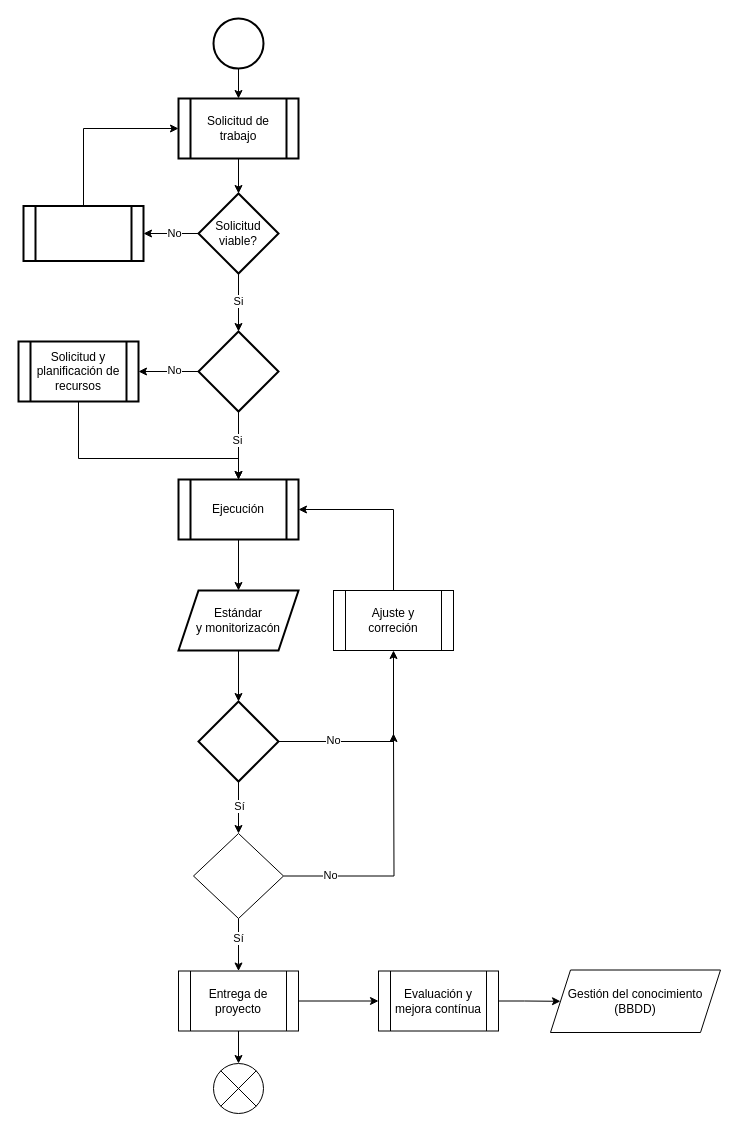
Image size: 738x1131. Some labels were removed from this diagram. Each missing label, with the centre of its shape:
Cliente satisfecho?: the point at 238,875
Cumple?: the point at 238,741
Inicio: the point at 238,43
Recursos?: the point at 238,371
Solicitar informacion: the point at 83,233
